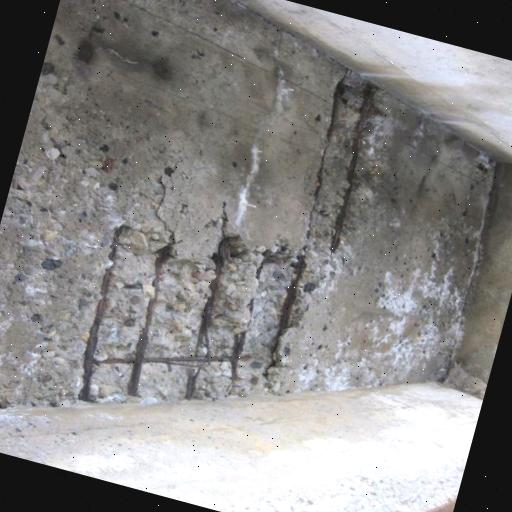spalling: (74, 83, 392, 397)
